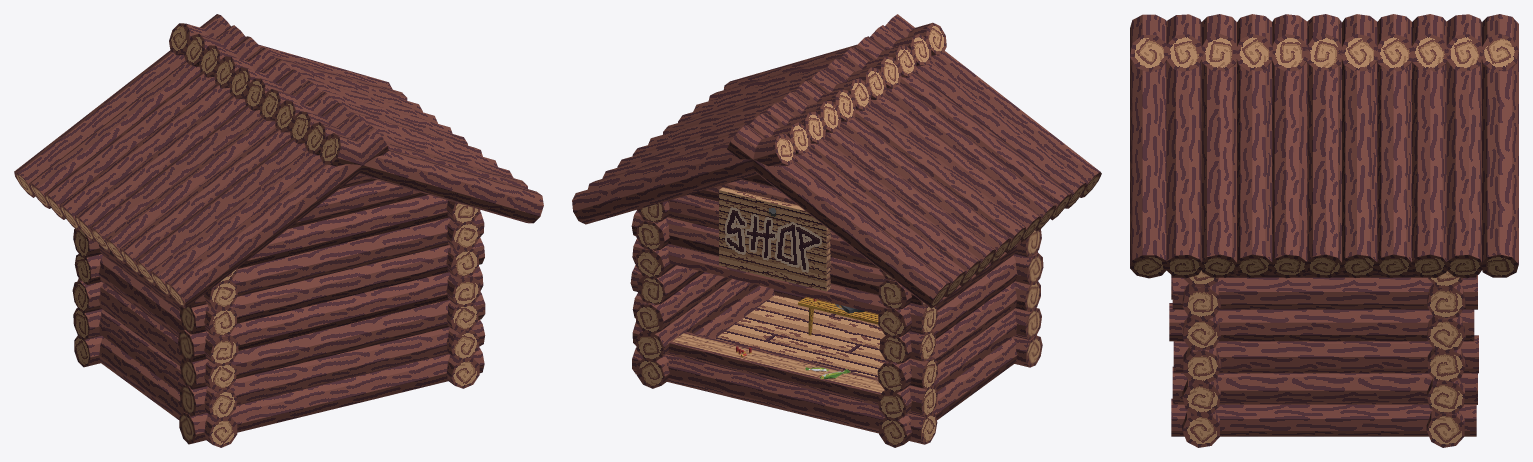
The model's file is Shop.glb.
3 renders of one model, left to right at view 1: azimuth 30°, elevation 25°; view 2: azimuth 150°, elevation 25°; view 3: azimuth 270°, elevation 25°, orthographic. The views are drawn at different scales.
Parts seen in each view (by area): view 1: Buche.004, Buche.003, Buche, Buche.001, Buche.002; view 2: Buche.004, Buche, Buche.001, Cube.003, Plane, Buche.003, Buche.002, plateau; view 3: Buche.004, Buche, Buche.003, Buche.001.
Boxes of the visible parts, box(x1,y1,x2,y2) form: Buche.004: box(14, 14, 543, 308); Buche.003: box(178, 195, 485, 444); Buche: box(77, 200, 480, 447); Buche.001: box(72, 228, 103, 367); Buche.002: box(288, 174, 428, 228); Buche.004: box(572, 14, 1101, 308); Buche: box(635, 201, 1037, 447); Buche.001: box(630, 194, 937, 444); Cube.003: box(719, 187, 830, 291); Plane: box(715, 295, 886, 378); Buche.003: box(773, 229, 1043, 367); Buche.002: box(690, 174, 797, 205); plateau: box(798, 297, 878, 324); Buche.004: box(1130, 14, 1518, 278); Buche: box(1169, 270, 1478, 436); Buche.003: box(1182, 270, 1221, 447); Buche.001: box(1426, 271, 1465, 447).
Size of the model in its own units: 9.2 by 6.98 by 7.19.
48 materials, 48 textured.
